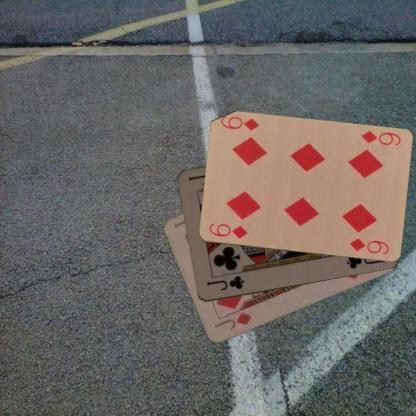6d: (206, 221, 249, 240), (358, 128, 402, 146)
Jc: (204, 274, 245, 292)
Jd: (211, 310, 254, 331)
